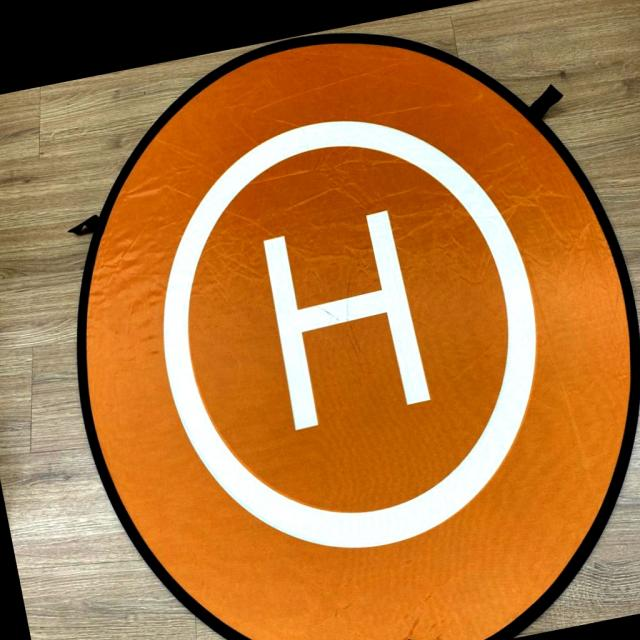helipad: (152, 114, 547, 555)
